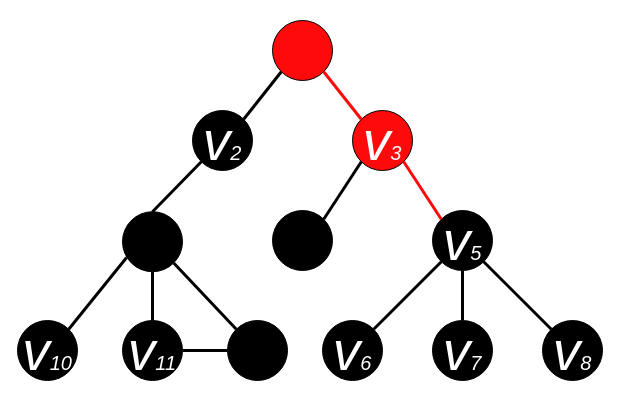
Some shapes in this 620 by 401 pixel diagram are drawn without their labels. The shapes that lost their labels are listed below. From the top down, each one's box as (x1, y1, x2, y2) in pixels, then its label:
(272, 20, 332, 80): v 1
(122, 211, 182, 272): v 9
(272, 210, 332, 270): v 4
(226, 320, 288, 380): v 12
